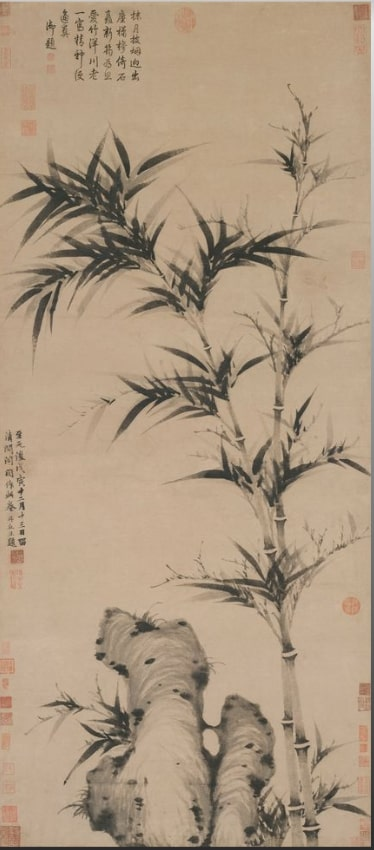bamboo: (16, 145, 354, 595), (231, 527, 370, 850)
hill: (72, 604, 304, 850)
